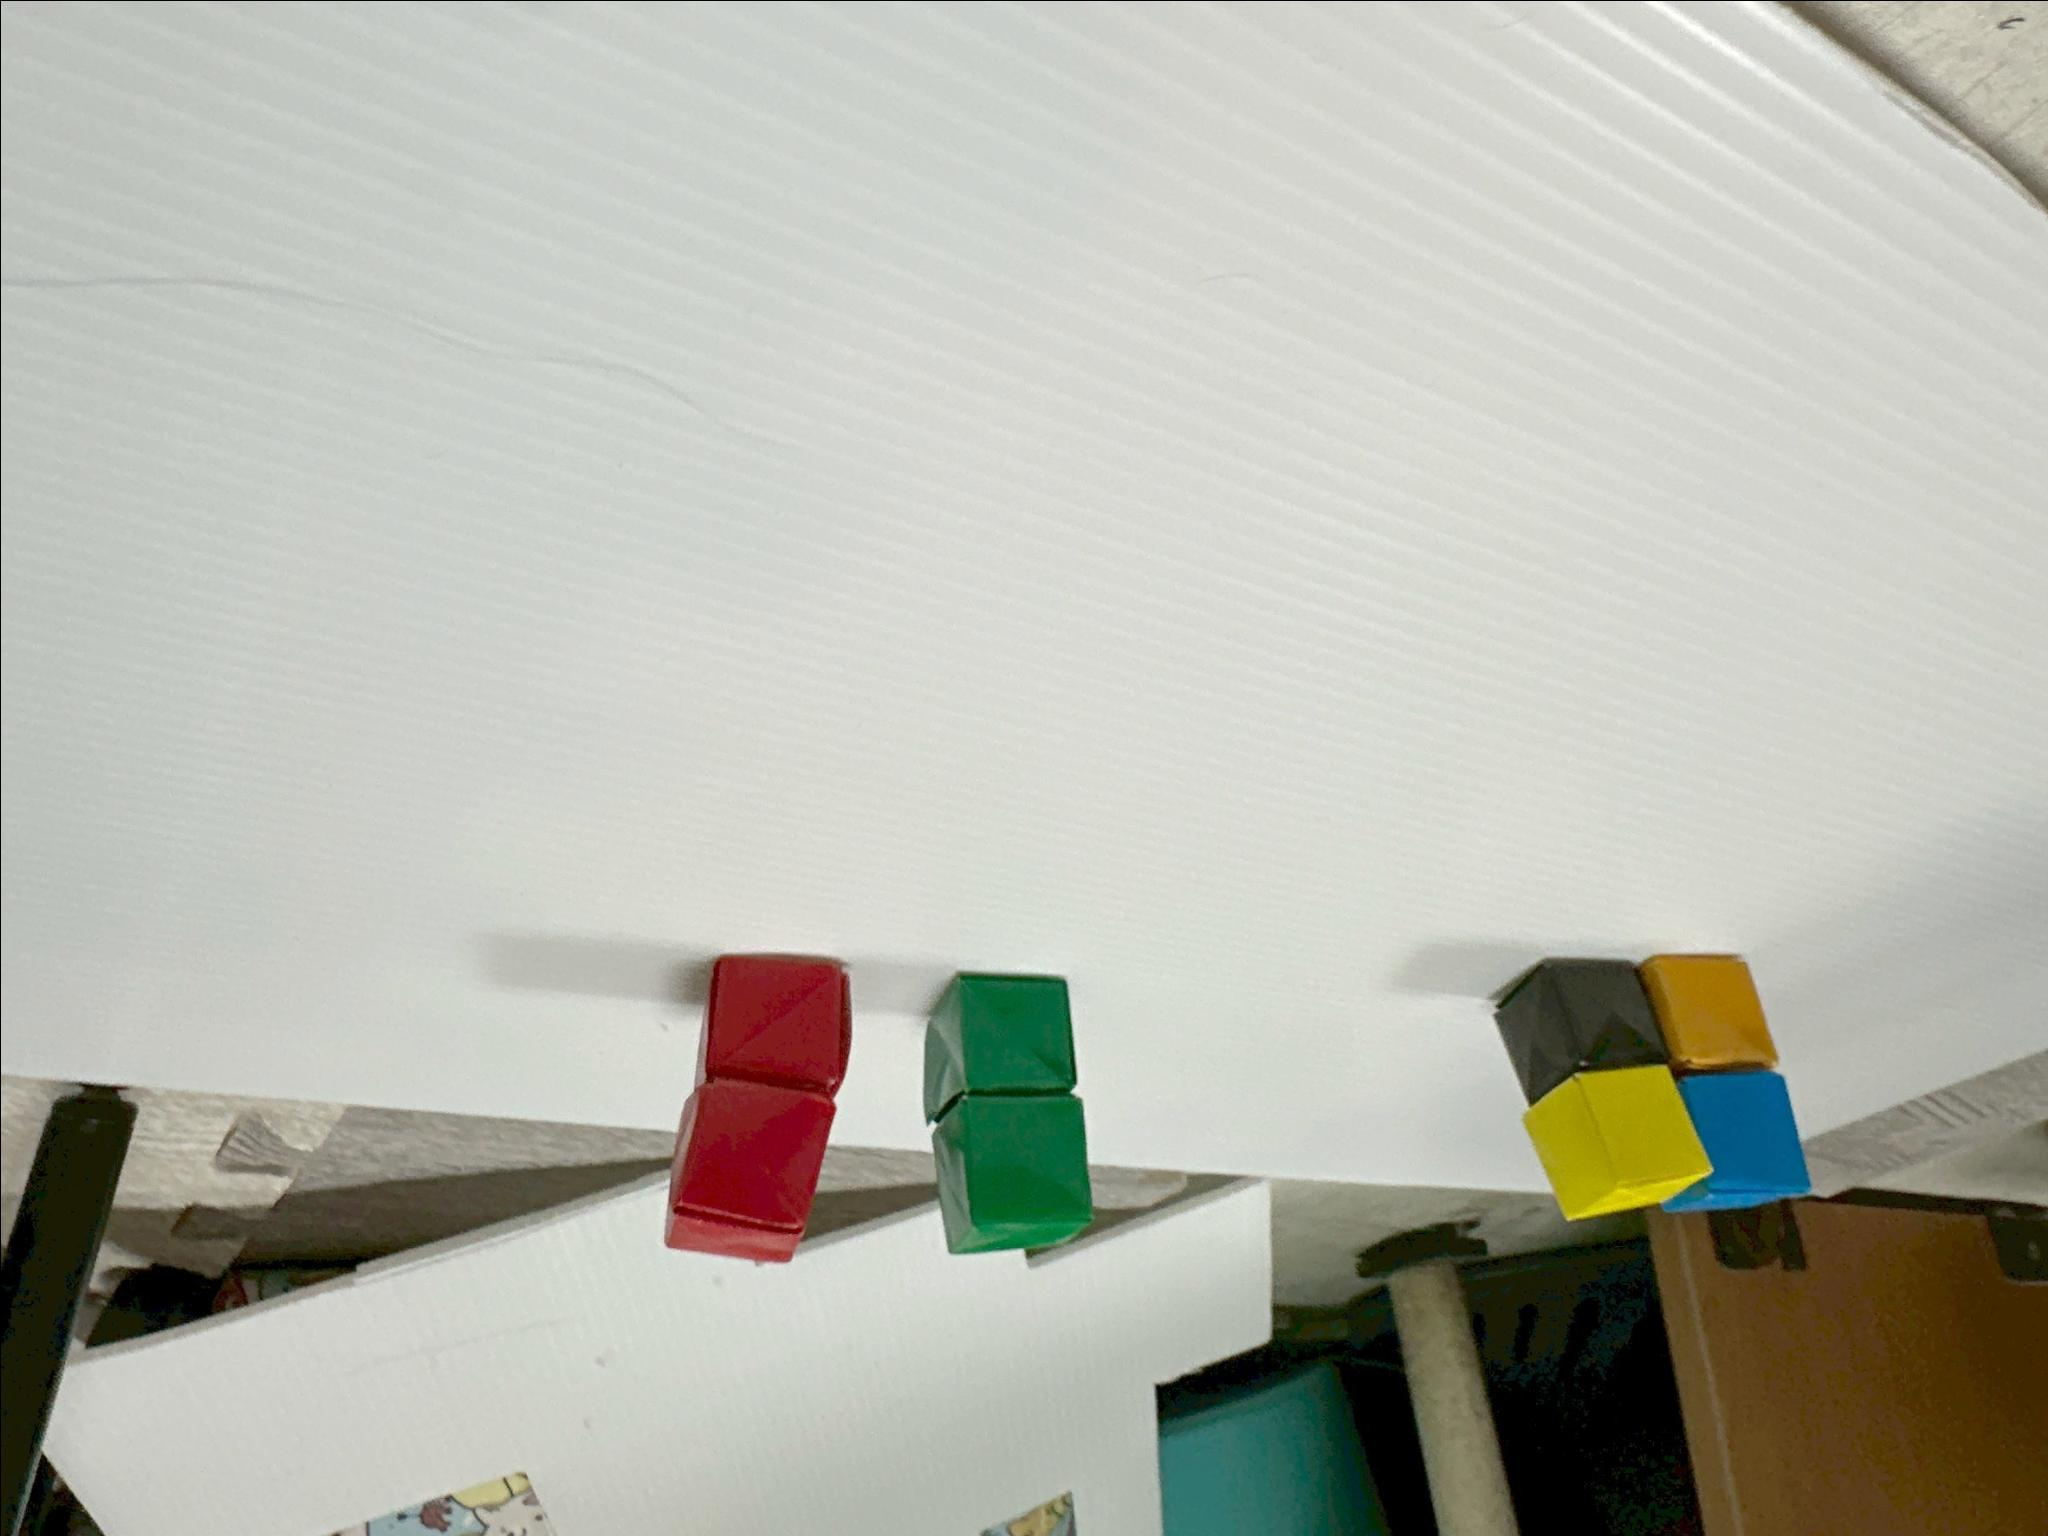cube: (666, 1076, 835, 1262), (1522, 1063, 1709, 1218), (1493, 958, 1669, 1104), (932, 1092, 1092, 1252), (924, 973, 1076, 1121), (701, 955, 851, 1097), (1663, 1068, 1809, 1210), (1640, 954, 1779, 1071)
